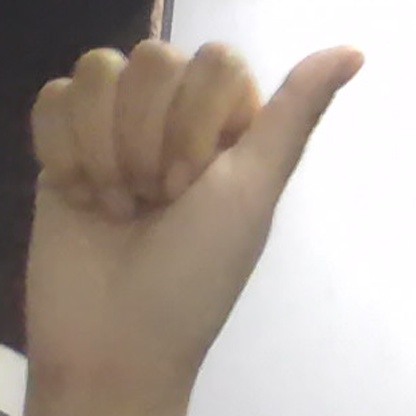A: (25, 39, 364, 387)
